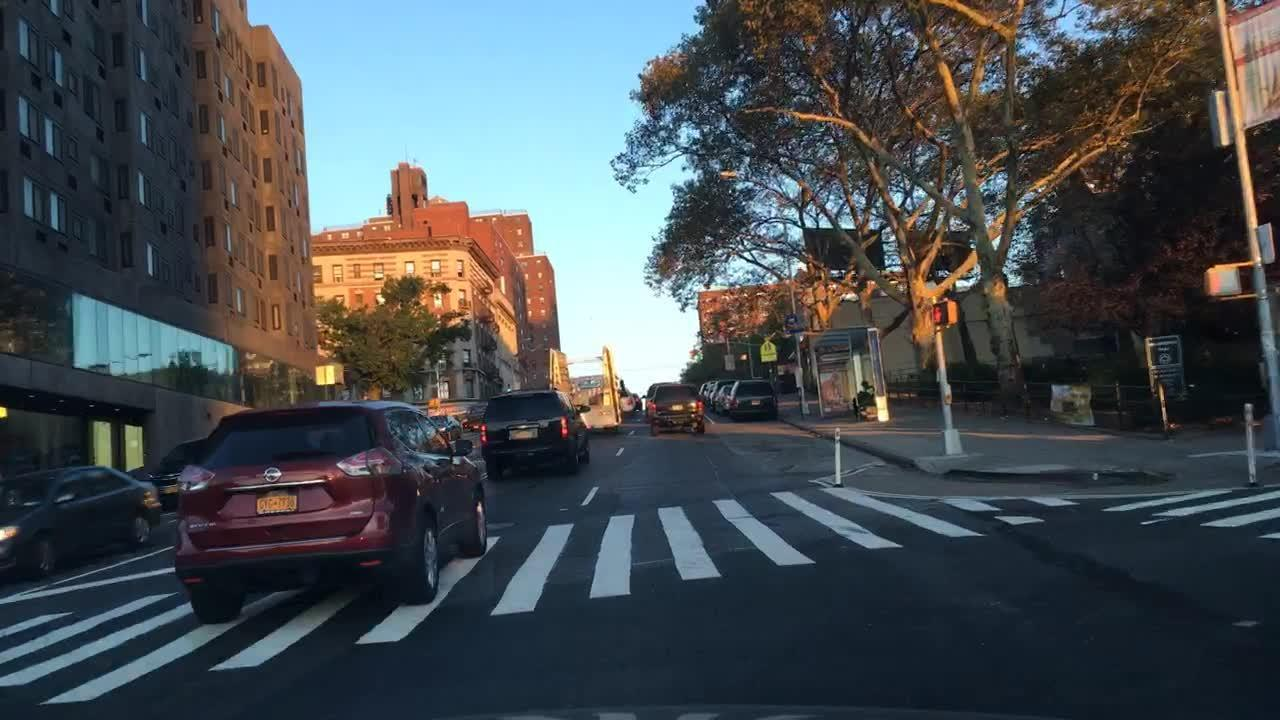Nissan: (261, 466, 289, 487)
